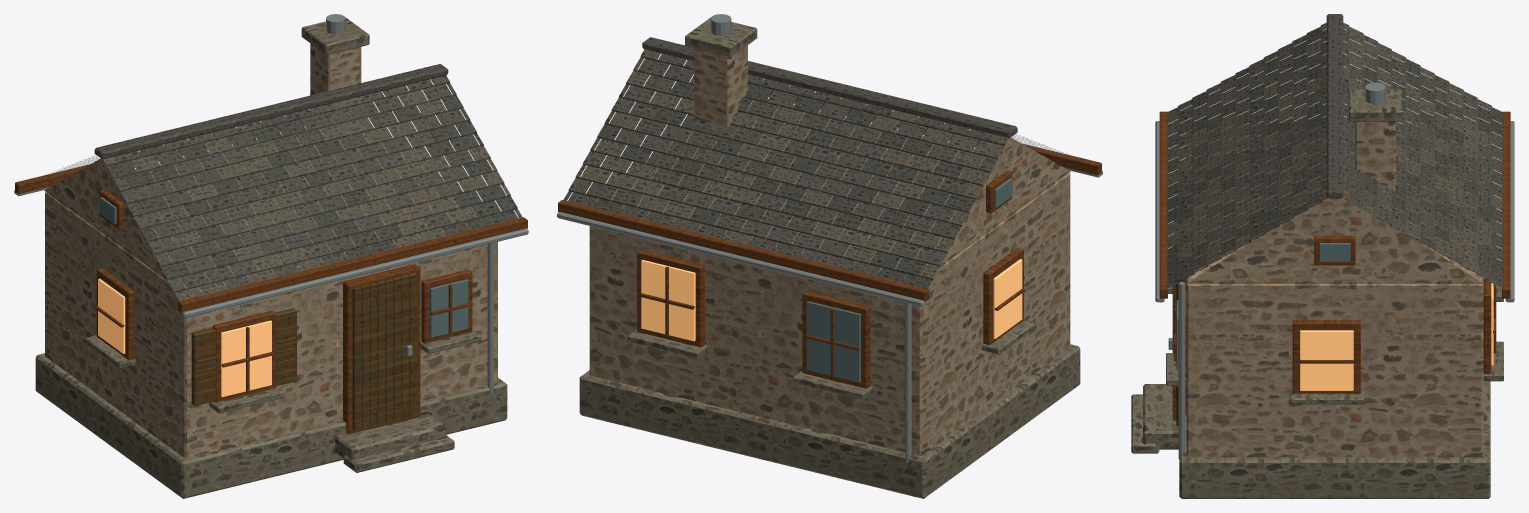
File: cottage-1.glb
The picture shows the model from 3 angles, left to right: view 1: azimuth 30°, elevation 25°; view 2: azimuth 150°, elevation 25°; view 3: azimuth 270°, elevation 25°; orthographic projection. The views are drawn at different scales.
Parts seen in each view (by area): view 1: cottage-1; view 2: cottage-1; view 3: cottage-1.
Boxes of the visible parts, bbox=[...] form: cottage-1: bbox=[14, 14, 528, 498]; cottage-1: bbox=[557, 14, 1102, 498]; cottage-1: bbox=[1131, 14, 1514, 498].
Size of the model in its own units: 4.08 by 3.97 by 3.71.
Materials: 11 (8 with a texture image).
